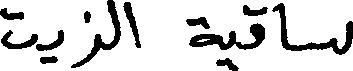X: (310, 16, 352, 59), (0, 3, 36, 53), (186, 12, 217, 70), (72, 6, 99, 70), (244, 0, 264, 54), (41, 25, 62, 68), (219, 26, 237, 70), (125, 0, 139, 52), (109, 0, 119, 54), (280, 0, 286, 54)
